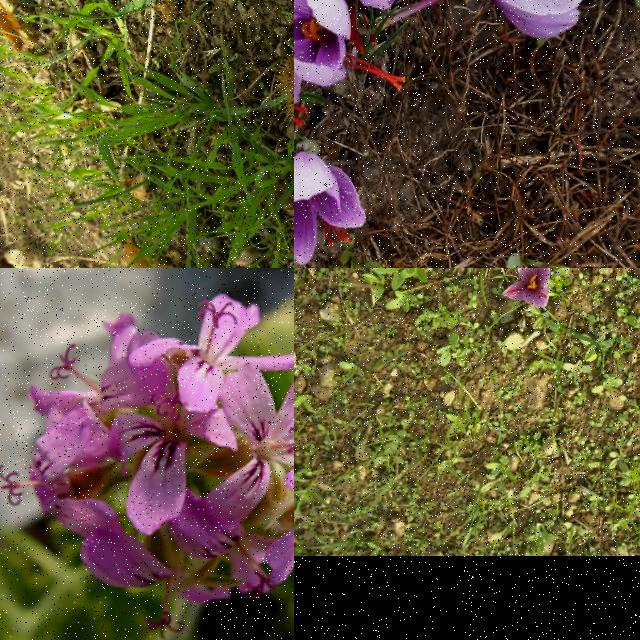flower: (294, 0, 404, 90), (294, 151, 366, 265), (503, 268, 551, 307)
overlap: (294, 0, 586, 146)
